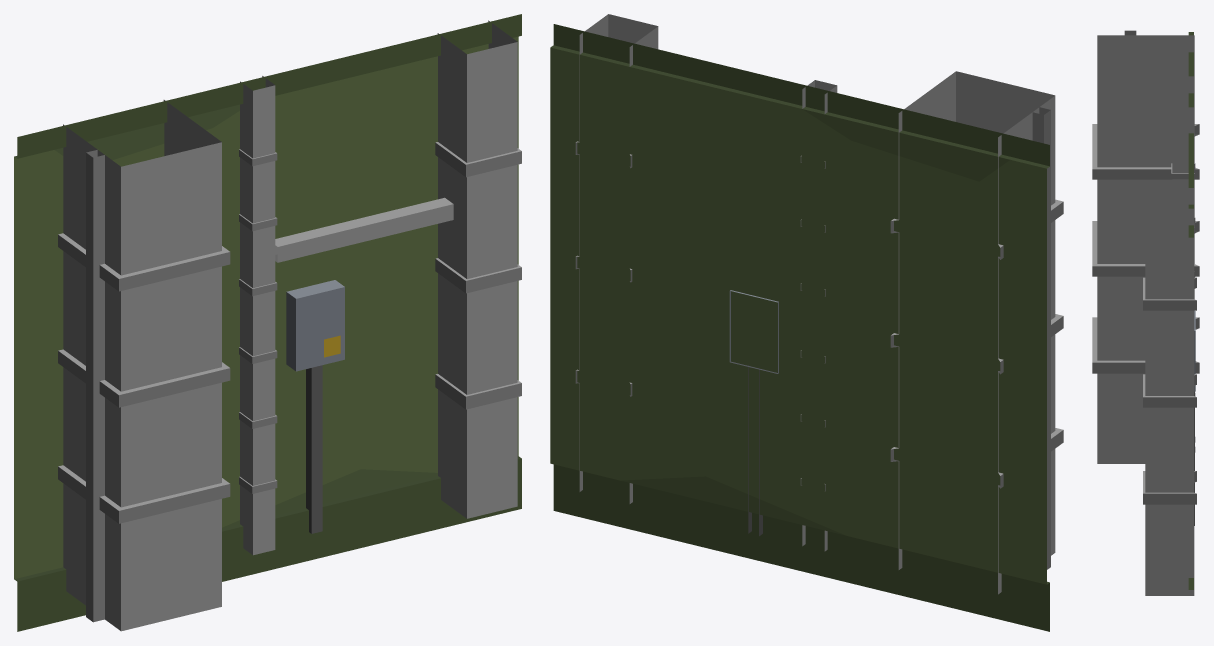
File: AI_Env_Wall_Green_Pipes.fbx
3 renders of one model, left to right at view 1: azimuth 30°, elevation 25°; view 2: azimuth 150°, elevation 25°; view 3: azimuth 270°, elevation 25°, orthographic. The views are drawn at different scales.
Visible parts, largest first — view 1: AI_Env_Wall_Green_Pipes; view 2: AI_Env_Wall_Green_Pipes; view 3: AI_Env_Wall_Green_Pipes.
Part boxes in pixels (x1,y1,x2,y2): AI_Env_Wall_Green_Pipes: (14, 14, 521, 631); AI_Env_Wall_Green_Pipes: (550, 14, 1063, 631); AI_Env_Wall_Green_Pipes: (1092, 30, 1199, 595).
Bounding box in the file's own units: 5 × 4.69 × 1.1.
